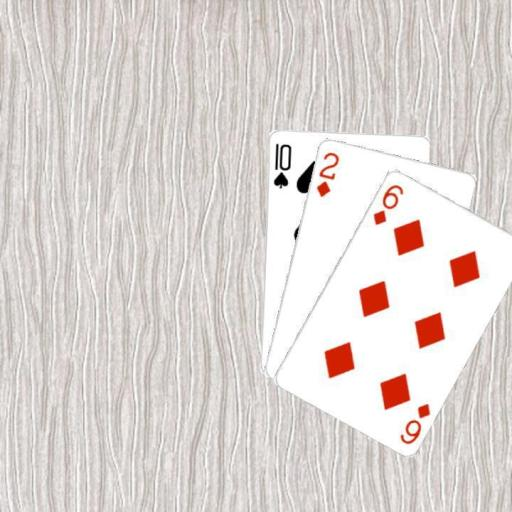card-corner: (396, 400, 432, 446), (370, 181, 405, 226), (313, 148, 341, 198), (270, 139, 292, 190)
